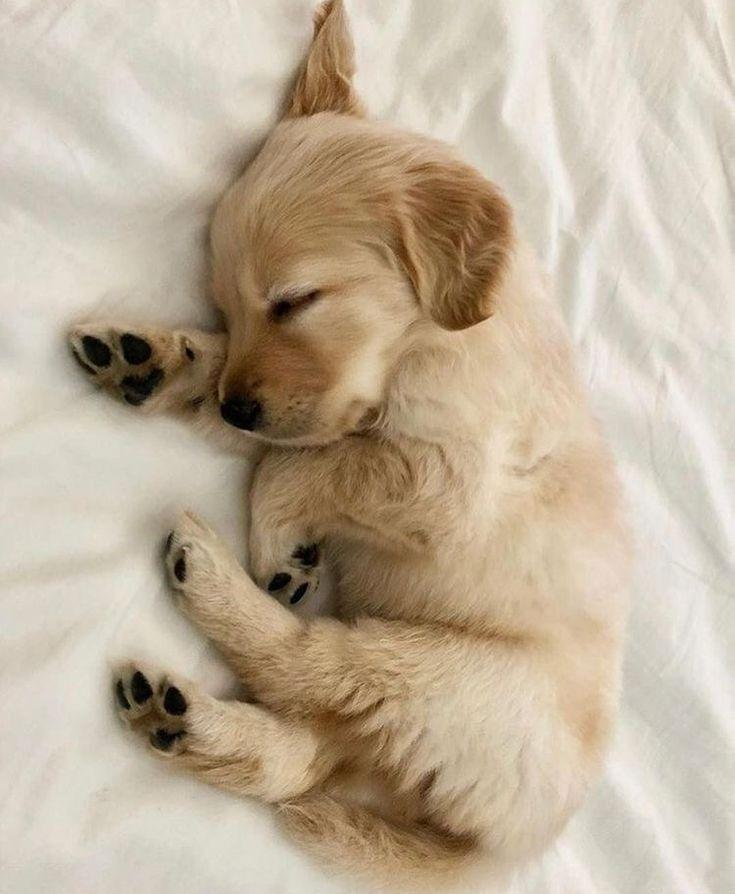puppy-dog: (63, 0, 644, 877)
